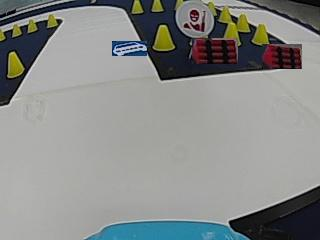evil: (175, 1, 213, 37)
